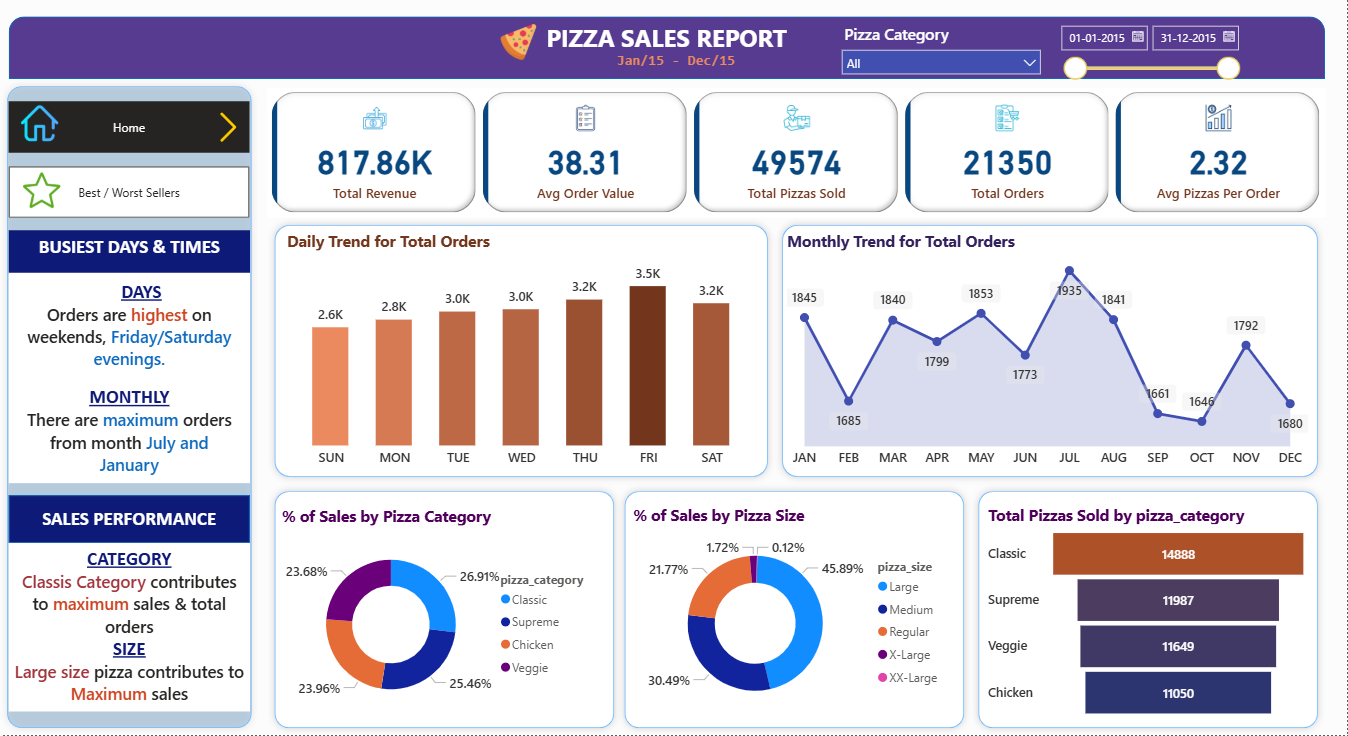

The page's visual inventory and layout, read from the dashboard file:
{"tool":"powerbi","page":{"name":"Home","canvas":[1500,820],"ordinal":0},"visuals":[{"type":"shape","box":[0,89.1,288.3,731.2],"z":0},{"type":"cardVisual","fields":{"Data":["pizza_sales.Total Revenue","pizza_sales.Avg Order Value","pizza_sales.Total Pizzas Sold","pizza_sales.Total Orders","pizza_sales.Avg Pizzas Per Order"]},"box":[298,98.9,1178.2,144.8],"z":1000},{"type":"shape","box":[9.7,19.5,1466.5,69.6],"z":2000},{"type":"textbox","box":[587.5,19.4,309.7,56.9],"z":3000},{"type":"textbox","box":[633.3,54.2,238.9,34.7],"z":4000},{"type":"image","box":[543.1,22.2,68.1,51.4],"z":5000},{"type":"shape","box":[298,243.7,565.4,296.6],"z":6000},{"type":"columnChart","title":"Daily Trend for Total Orders","fields":{"Category":["pizza_sales.Order Day"],"Y":["pizza_sales.Total Orders"]},"box":[314.7,257.6,533.4,273],"z":7000},{"type":"shape","box":[863.5,243.7,612.8,296.6],"z":8000},{"type":"areaChart","title":"Monthly Trend for Total Orders","fields":{"Category":["pizza_sales.Order Month"],"Y":["pizza_sales.Total Orders"]},"box":[871.8,257.6,590.5,273],"z":9000},{"type":"shape","box":[298,540.4,394.1,279.9],"z":10000},{"type":"shape","box":[688,540.4,394.1,279.9],"z":11000},{"type":"shape","box":[1082.1,540.4,394.1,279.9],"z":12000},{"type":"donutChart","title":"% of Sales by Pizza Category","fields":{"Category":["pizza_sales.pizza_category"],"Y":["pizza_sales.Total Revenue"]},"box":[309.2,564,362.1,243.7],"z":13000},{"type":"donutChart","title":"% of Sales by Pizza Size","fields":{"Category":["pizza_sales.pizza_size"],"Y":["pizza_sales.Total Revenue"]},"box":[700.5,562.6,362.1,243.7],"z":14000},{"type":"funnel","fields":{"Category":["pizza_sales.pizza_category"],"Y":["pizza_sales.Total Pizzas Sold"]},"box":[1096,562.6,366.3,243.7],"z":15000},{"type":"textbox","box":[9.6,257.3,268.5,48.2],"z":16000},{"type":"textbox","box":[9.6,305.5,268.5,234.8],"z":17000},{"type":"textbox","box":[9.6,606.2,268.5,188.1],"z":18000},{"type":"shape","box":[9.6,553.2,268.5,53.1],"z":19000},{"type":"slicer","fields":{"Values":["pizza_sales.pizza_category"]},"box":[927.5,22.3,242.3,69.6],"z":20000},{"type":"slicer","fields":{"Values":["pizza_sales.order_date"]},"box":[1169.8,19.5,220,72.4],"z":21000},{"type":"pageNavigator","box":[9.6,114.2,268.5,57.9],"z":22000},{"type":"pageNavigator","box":[9.6,186.5,268.5,57.9],"z":23000},{"type":"image","box":[231.6,120.6,46.6,43.4],"z":24000},{"type":"image","box":[9.6,112.6,69.1,51.5],"z":25000},{"type":"image","box":[20.9,186.5,51.5,53.1],"z":26000}]}

Visuals, with their boxes in screenshot pixels (x1, y1, x2, y2), scaled from the page's 1500x820 canvas onto the 1348x736 screenshot:
shape: box=[0, 80, 259, 735]
cardVisual - pizza_sales.Total Revenue x pizza_sales.Avg Order Value: box=[268, 89, 1327, 219]
shape: box=[9, 18, 1327, 80]
textbox: box=[528, 17, 806, 68]
textbox: box=[569, 49, 784, 80]
image: box=[488, 20, 549, 66]
shape: box=[268, 219, 776, 485]
"Daily Trend for Total Orders" columnChart: box=[283, 231, 762, 476]
shape: box=[776, 219, 1327, 485]
"Monthly Trend for Total Orders" areaChart: box=[783, 231, 1314, 476]
shape: box=[268, 485, 622, 735]
shape: box=[618, 485, 972, 735]
shape: box=[972, 485, 1327, 735]
"% of Sales by Pizza Category" donutChart: box=[278, 506, 603, 725]
"% of Sales by Pizza Size" donutChart: box=[630, 505, 955, 724]
funnel - pizza_sales.pizza_category x pizza_sales.Total Pizzas Sold: box=[985, 505, 1314, 724]
textbox: box=[9, 231, 250, 274]
textbox: box=[9, 274, 250, 485]
textbox: box=[9, 544, 250, 713]
shape: box=[9, 497, 250, 544]
slicer - pizza_sales.pizza_category: box=[834, 20, 1051, 82]
slicer - pizza_sales.order_date: box=[1051, 18, 1249, 82]
pageNavigator: box=[9, 103, 250, 154]
pageNavigator: box=[9, 167, 250, 219]
image: box=[208, 108, 250, 147]
image: box=[9, 101, 71, 147]
image: box=[19, 167, 65, 215]
